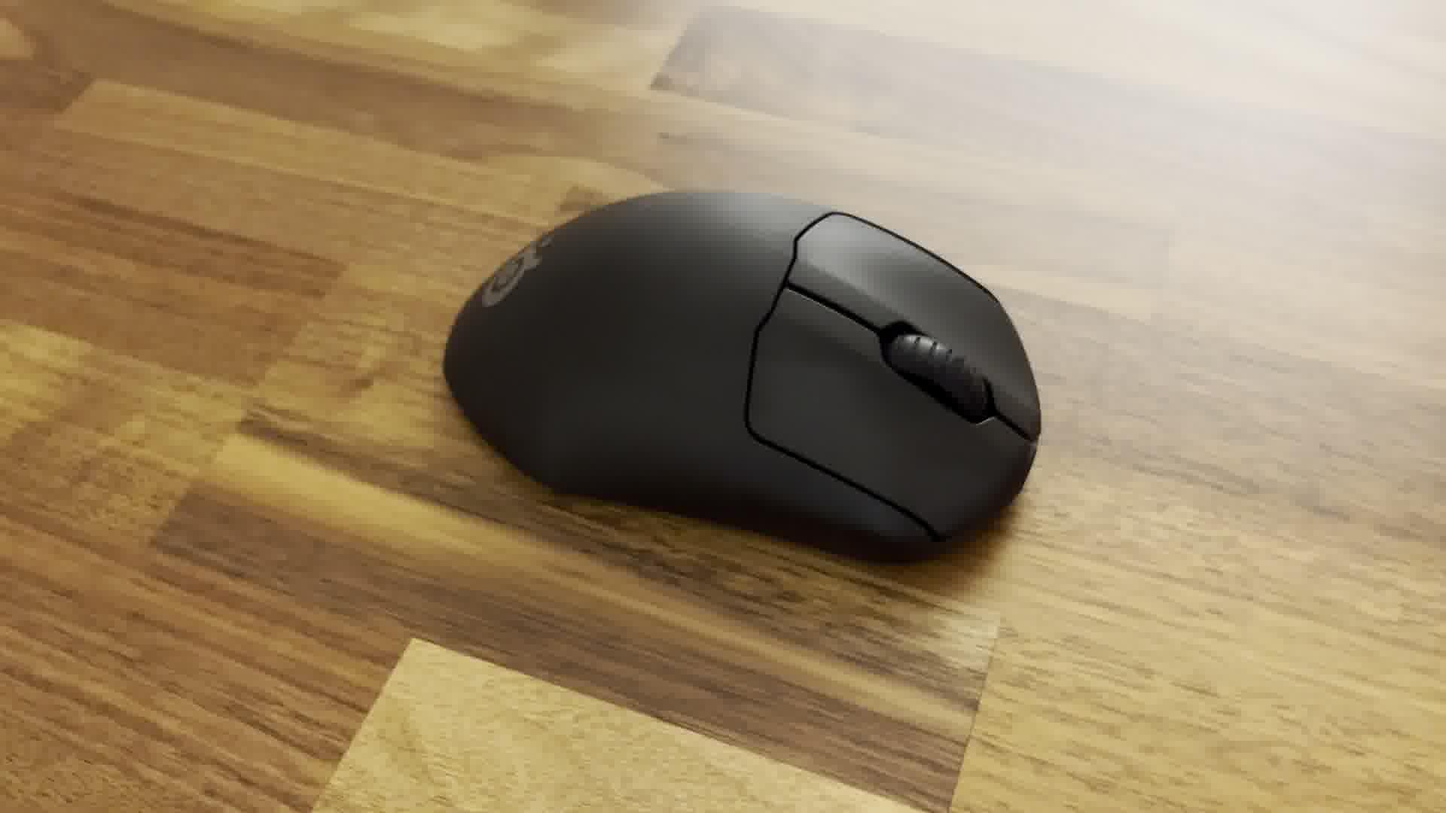steel-series: (440, 187, 1047, 570)
